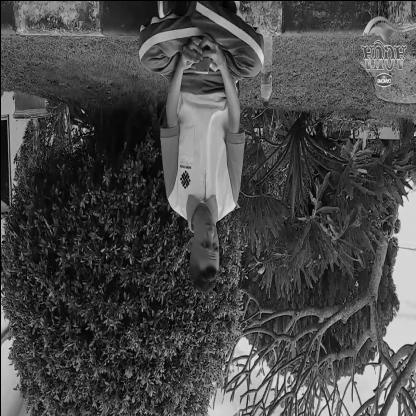plastic_bottles: (254, 28, 275, 113)
